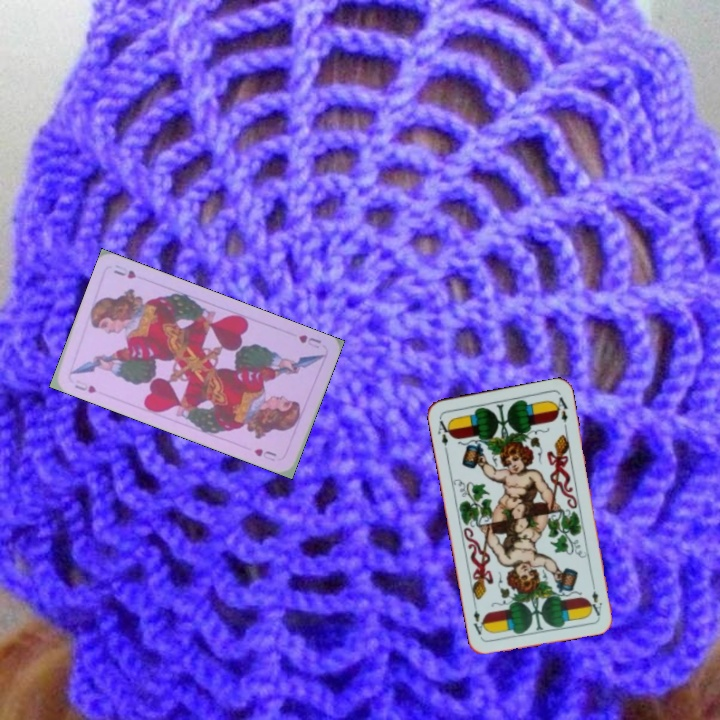EA: (587, 578, 605, 618), (434, 417, 454, 448)
HU: (294, 331, 324, 351), (70, 376, 99, 396)
